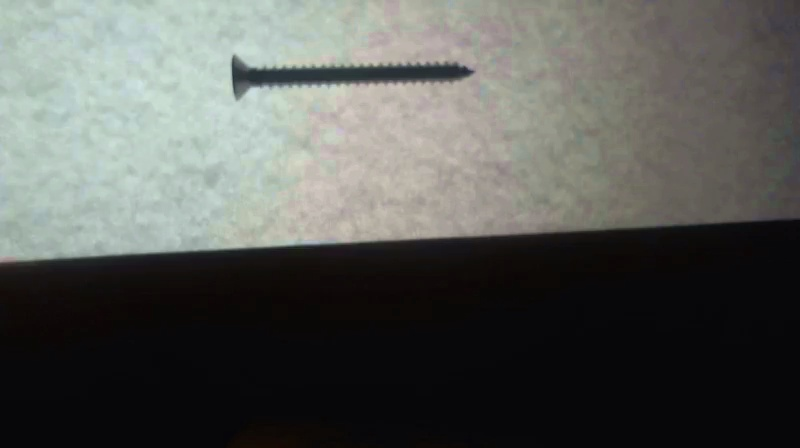S002: (226, 46, 478, 103)
